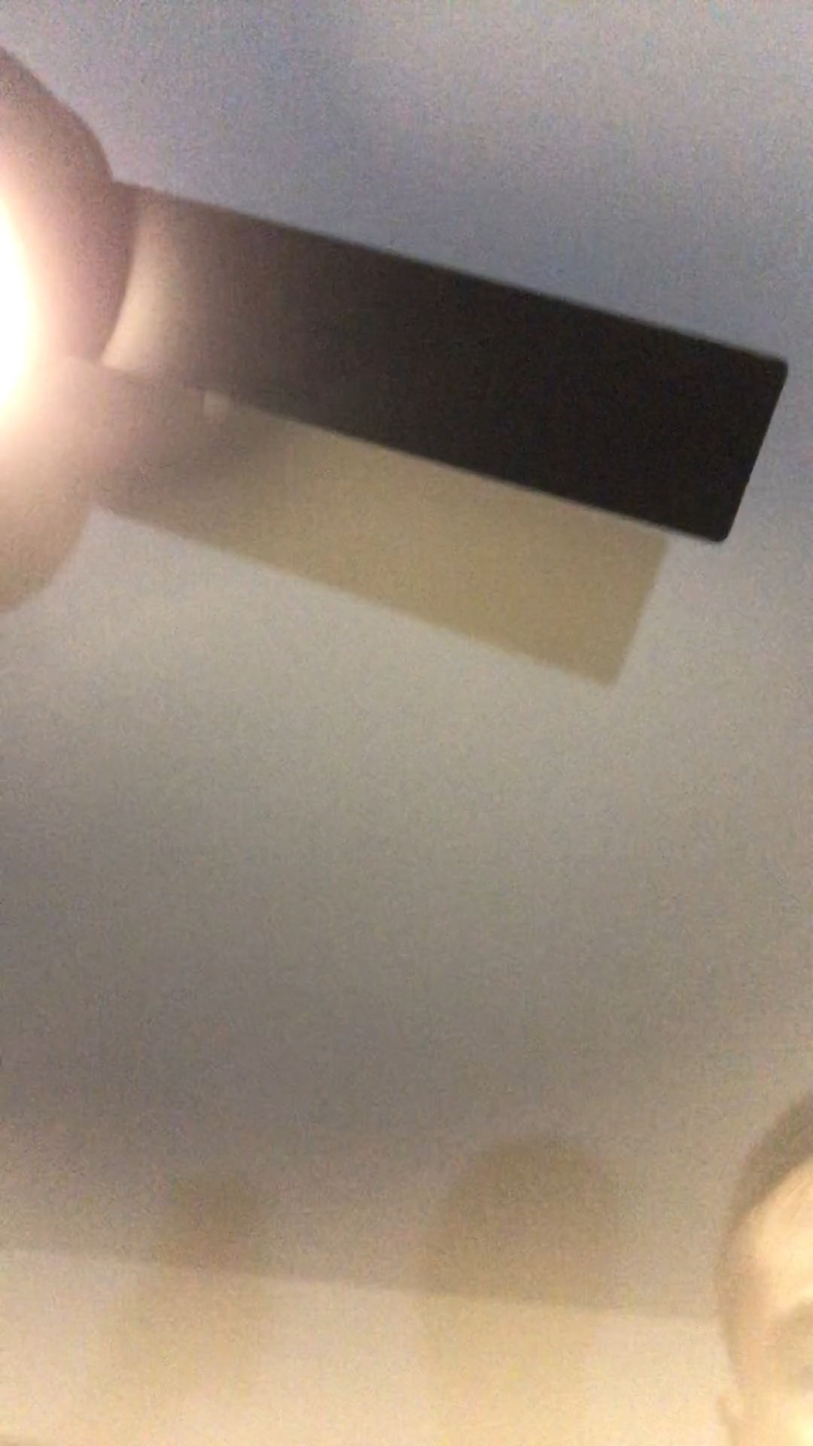face: (708, 1152, 813, 1446)
